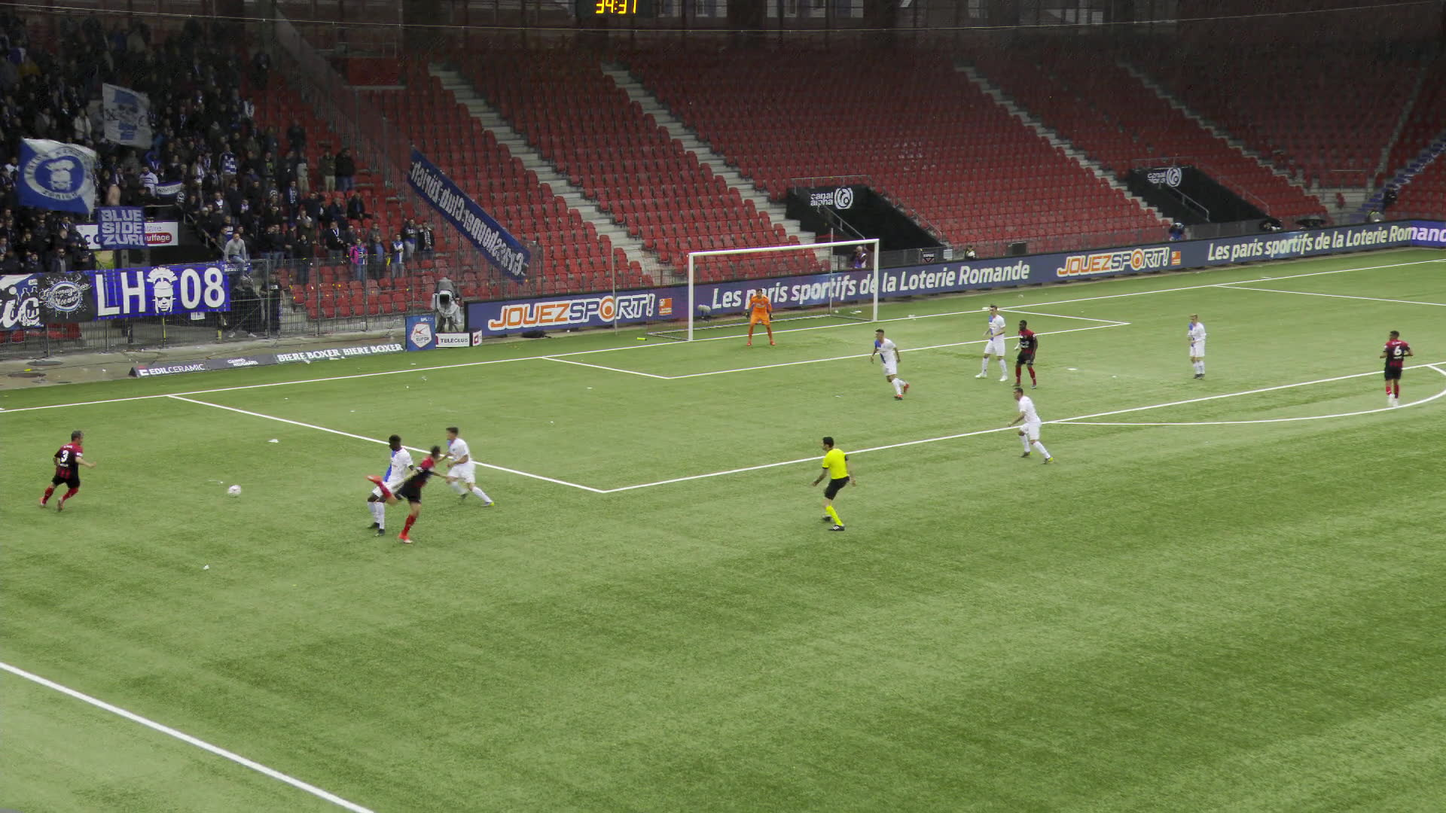ball: (227, 485, 241, 496)
player: (373, 445, 454, 534), (367, 429, 420, 536), (41, 430, 99, 510), (438, 426, 487, 509), (864, 329, 909, 399), (1011, 385, 1050, 464), (1375, 332, 1410, 410), (977, 304, 1009, 381), (1009, 320, 1039, 388), (745, 288, 776, 346), (1185, 315, 1206, 380)
referee: (812, 434, 856, 530)
